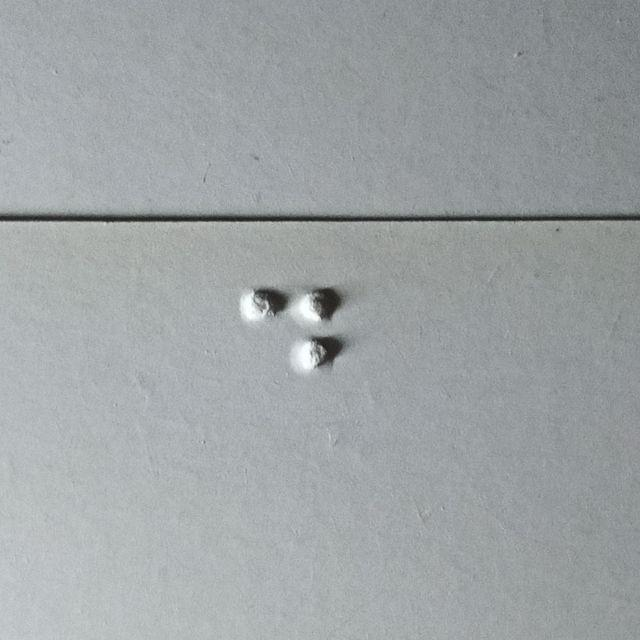dahil: (239, 285, 337, 428)
